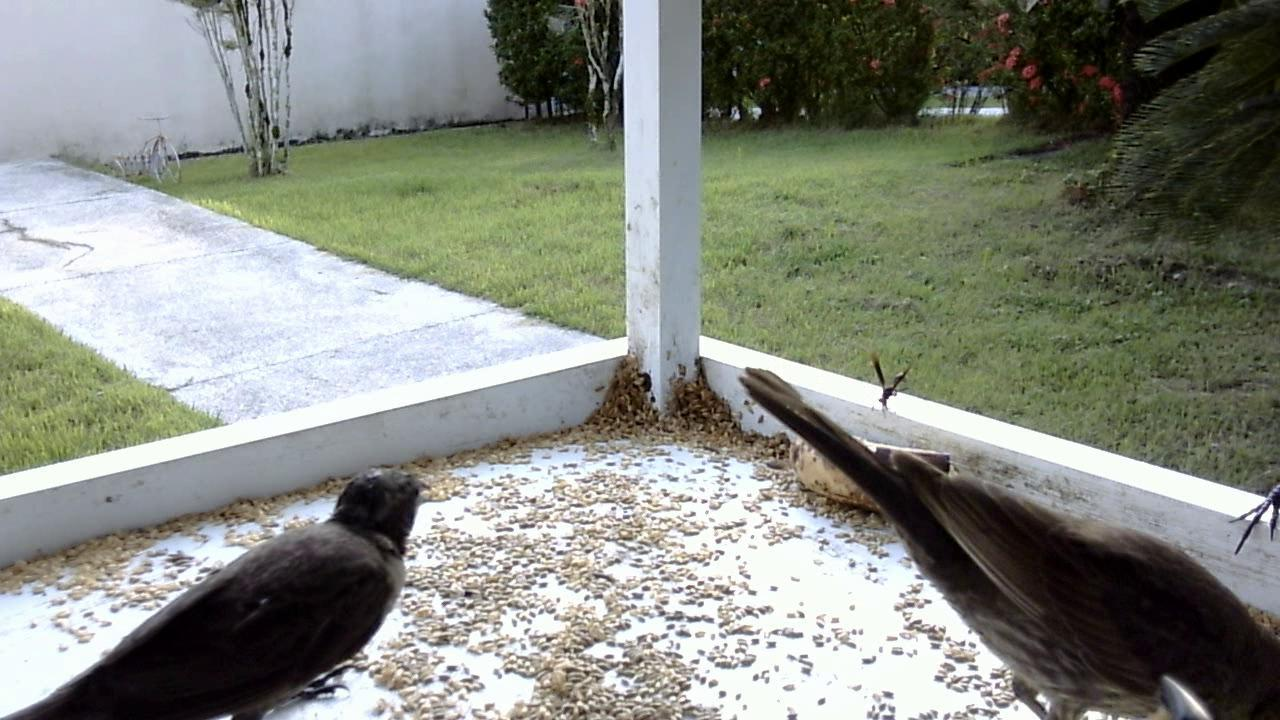chupim: (747, 370, 1267, 720), (1, 461, 436, 716)
